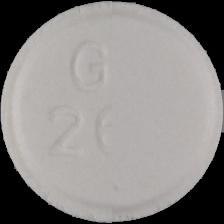0781-1507: (0, 0, 224, 224)
